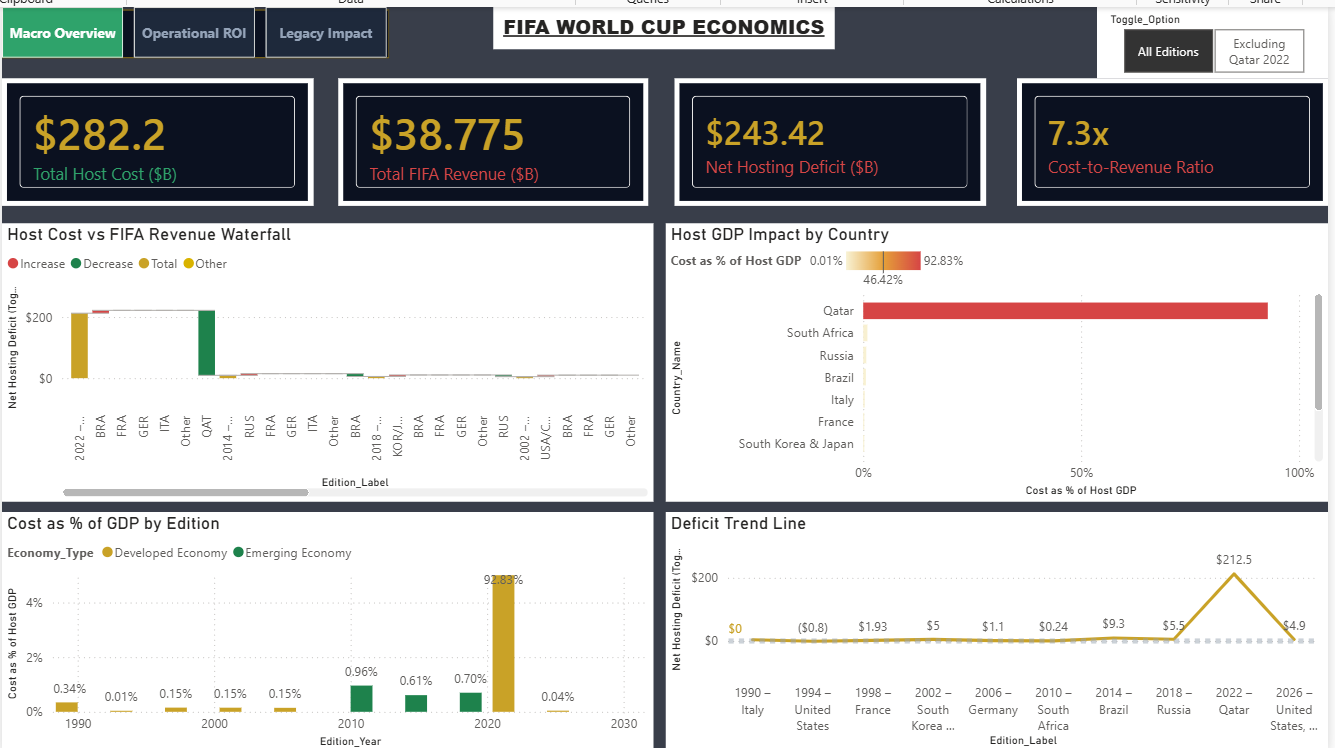

Layout of this report page (visuals, bound fields, positions):
{"tool":"powerbi","page":{"name":"Macro Overview","canvas":[1280,720],"ordinal":0},"visuals":[{"type":"slicer","fields":{"Values":["Dim_Outlier_Toggle.Toggle_Option"]},"box":[1056.6,0,223.7,68.6],"z":0},{"type":"cardVisual","fields":{"Data":["Measure.Total Host Cost (Toggled)"]},"box":[0,68.8,300.4,123.1],"z":1000},{"type":"cardVisual","fields":{"Data":["Measure.Net Hosting Deficit (Toggled)"]},"box":[649.1,68.8,300.4,123.1],"z":2000},{"type":"cardVisual","fields":{"Data":["Measure.Total FIFA Revenue (Toggled)"]},"box":[324.5,68.8,299.2,123.1],"z":3000},{"type":"cardVisual","fields":{"Data":["Measure.Cost-to-Revenue Ratio (Toggled)"]},"box":[979.6,68.8,300.4,123.1],"z":4000},{"type":"waterfallChart","title":"Host Cost vs FIFA Revenue Waterfall","fields":{"Category":["Dim_Edition.Edition_Label"],"Breakdown":["Fact_WorldCup_Economics.Host_Country_Key"],"Y":["Measure.Net Hosting Deficit (Toggled)"]},"box":[0,208.7,628.6,269],"z":5000},{"type":"clusteredBarChart","title":"Host GDP Impact by Country","fields":{"Category":["Dim_Host_Country.Country_Name"],"Y":["Measure.Cost as % of Host GDP"]},"box":[640.8,208.6,639.5,269],"z":6000},{"type":"clusteredColumnChart","title":"Cost as % of GDP by Edition","fields":{"Category":["Dim_Edition.Edition_Year"],"Y":["Measure.Cost as % of Host GDP"],"Series":["Dim_Host_Country.Economy_Type"]},"box":[0,487.4,628.6,232.8],"z":7000},{"type":"lineChart","title":"Deficit Trend Line","fields":{"Category":["Dim_Edition.Edition_Label"],"Y":["Measure.Net Hosting Deficit (Toggled)"]},"box":[641,488,639,232],"z":8000},{"type":"textbox","box":[474.1,0,329.4,41],"z":9000},{"type":"shape","box":[0,2.4,374,47.1],"z":10000},{"type":"pageNavigator","box":[0,0,374,49.5],"z":11000}]}

Visuals, with their boxes in screenshot pixels (x1, y1, x2, y2):
slicer - Dim_Outlier_Toggle.Toggle_Option: 1089,3,1318,74
cardVisual - Measure.Total Host Cost (Toggled): 7,74,314,200
cardVisual - Measure.Net Hosting Deficit (Toggled): 671,74,979,200
cardVisual - Measure.Total FIFA Revenue (Toggled): 339,74,645,200
cardVisual - Measure.Cost-to-Revenue Ratio (Toggled): 1010,74,1317,200
"Host Cost vs FIFA Revenue Waterfall" waterfallChart: 7,217,651,493
"Host GDP Impact by Country" clusteredBarChart: 663,217,1318,492
"Cost as % of GDP by Edition" clusteredColumnChart: 7,502,651,741
"Deficit Trend Line" lineChart: 663,503,1317,741
textbox: 492,3,830,45
shape: 7,6,390,54
pageNavigator: 7,3,390,54
